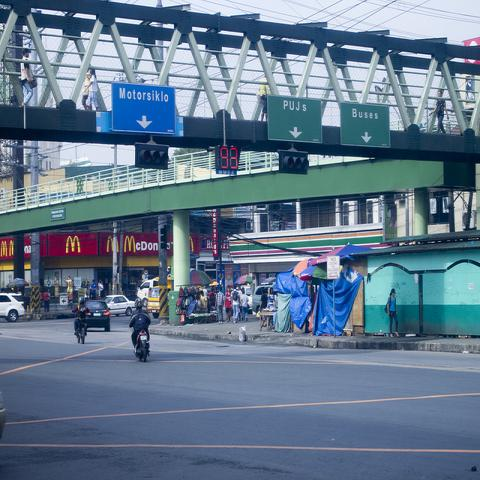car: (85, 300, 111, 332), (0, 293, 25, 323), (103, 295, 138, 316), (253, 285, 273, 313), (146, 286, 160, 320), (244, 286, 253, 314)
motorcycle: (72, 310, 90, 344), (133, 329, 150, 364), (134, 297, 142, 309)
